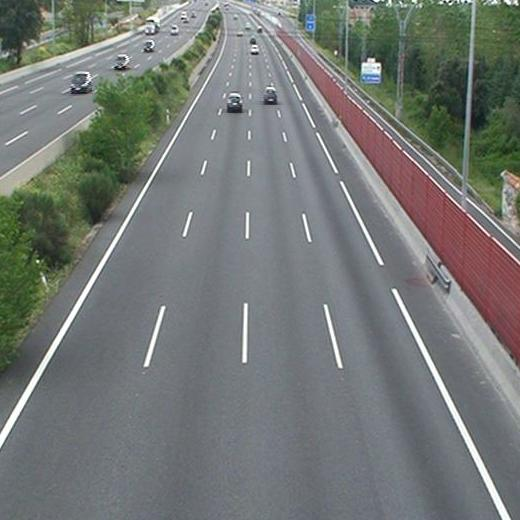car: (227, 93, 242, 110), (263, 87, 277, 103), (250, 45, 259, 54)
